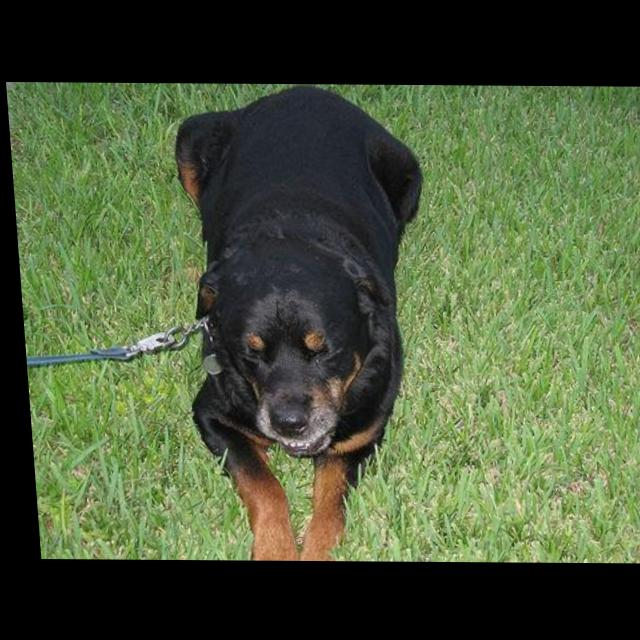rottweiler: (164, 83, 444, 562)
